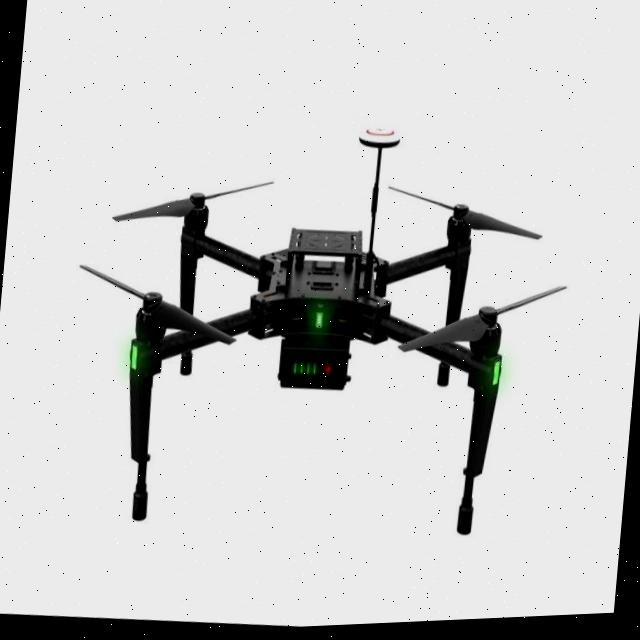drone: (55, 120, 608, 484)
